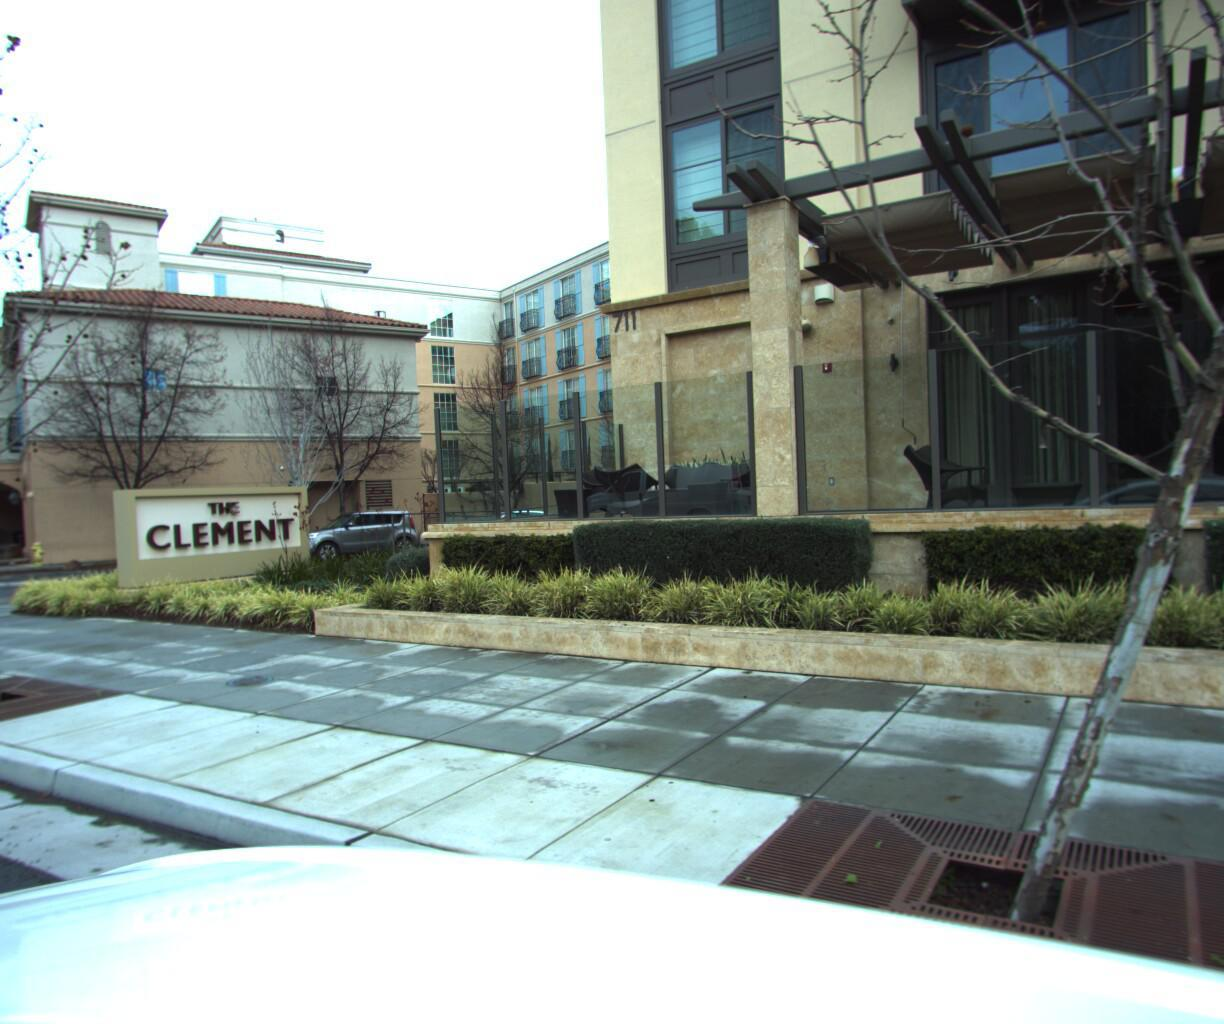car: (279, 501, 423, 560), (435, 500, 562, 550)
